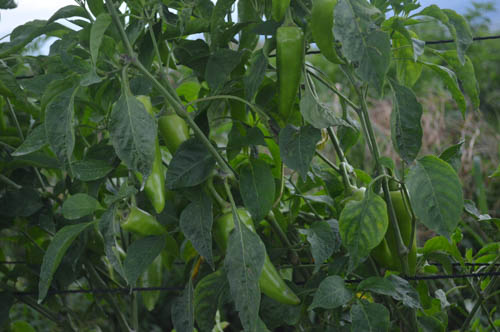ChiliPepper: (215, 208, 298, 306), (131, 98, 163, 209), (336, 194, 385, 257), (272, 29, 305, 122), (380, 192, 418, 271), (128, 212, 177, 262), (309, 1, 345, 63), (159, 114, 192, 150)
